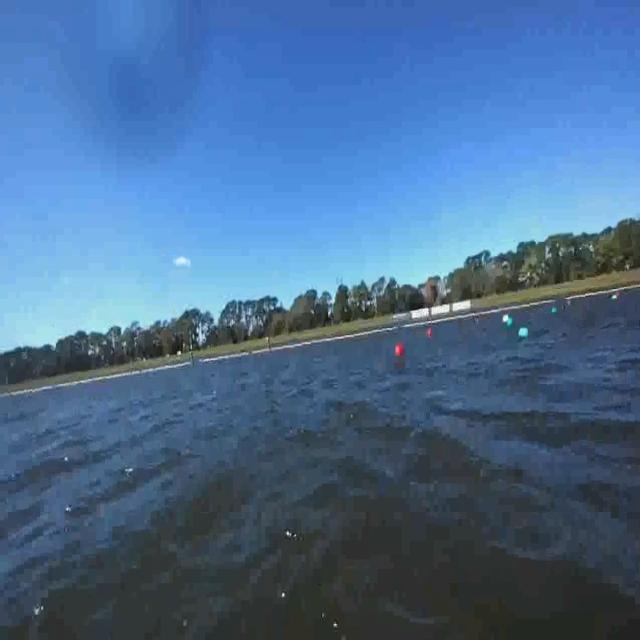green-buoy: (515, 329, 528, 342), (518, 326, 530, 339), (506, 316, 514, 331), (612, 295, 620, 301), (610, 294, 618, 300), (552, 306, 559, 312)
red-buoy: (395, 344, 403, 355), (427, 328, 432, 336)
